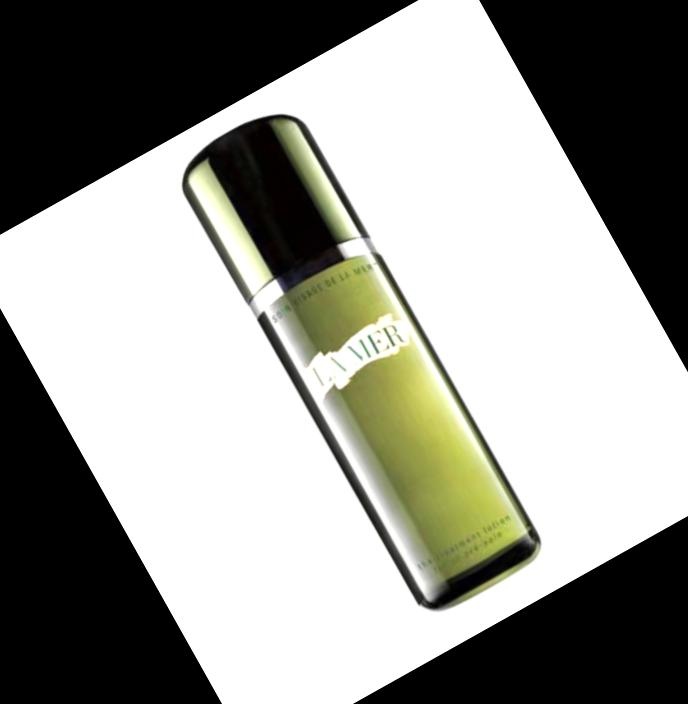cosmetic: (173, 98, 554, 619)
